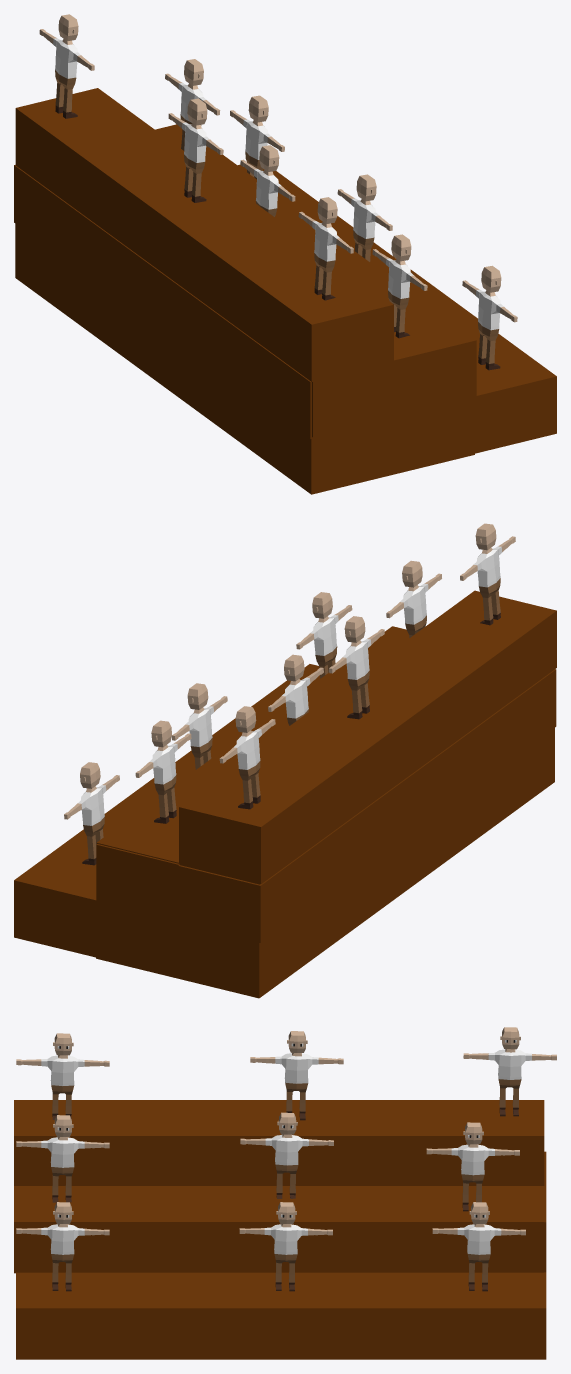
File: audience.glb
The picture shows the model from 3 angles, top to bottom: view 1: azimuth 30°, elevation 25°; view 2: azimuth 150°, elevation 25°; view 3: azimuth 270°, elevation 25°; orthographic projection. The views are drawn at different scales.
Parts seen in each view (by area): view 1: Cube, Object_9.001, Object_9.003, Object_9.002, Object_9.013, Object_9.010, Object_9.006, Object_9.011, Object_9.009, Object_9.012; view 2: Cube, Object_9.012, Object_9.002, Object_9.001, Object_9.013, Object_9.009, Object_9.006, Object_9.003, Object_9.010, Object_9.011; view 3: Cube, Object_9.003, Object_9.002, Object_9.006, Object_9.009, Object_9.010, Object_9.001, Object_9.011, Object_9.012, Object_9.013.
Part boxes in pixels (<box>): Cube: <box>14,88,556,494</box>; Object_9.001: <box>168,98,223,202</box>; Object_9.003: <box>462,265,517,370</box>; Object_9.002: <box>39,14,94,118</box>; Object_9.013: <box>298,197,353,300</box>; Object_9.010: <box>372,234,427,338</box>; Object_9.006: <box>337,174,392,261</box>; Object_9.011: <box>240,145,295,216</box>; Object_9.009: <box>230,95,284,179</box>; Object_9.012: <box>165,59,220,150</box>; Cube: <box>14,590,556,998</box>; Object_9.012: <box>135,720,191,823</box>; Object_9.002: <box>219,706,275,809</box>; Object_9.001: <box>329,616,384,719</box>; Object_9.013: <box>460,523,515,625</box>; Object_9.009: <box>64,762,119,865</box>; Object_9.006: <box>172,683,227,769</box>; Object_9.003: <box>296,592,352,678</box>; Object_9.010: <box>386,560,441,637</box>; Object_9.011: <box>268,654,323,725</box>; Cube: <box>14,1100,546,1359</box>; Object_9.003: <box>16,1202,109,1291</box>; Object_9.002: <box>463,1027,556,1116</box>; Object_9.006: <box>239,1202,332,1291</box>; Object_9.009: <box>432,1202,525,1291</box>; Object_9.010: <box>16,1115,109,1202</box>; Object_9.001: <box>250,1031,343,1120</box>; Object_9.011: <box>240,1112,333,1198</box>; Object_9.012: <box>426,1122,519,1211</box>; Object_9.013: <box>16,1033,109,1119</box>.
Bounding box in the file's own units: 7.95 × 8.24 × 16.92.
23 materials, 13 textured.
